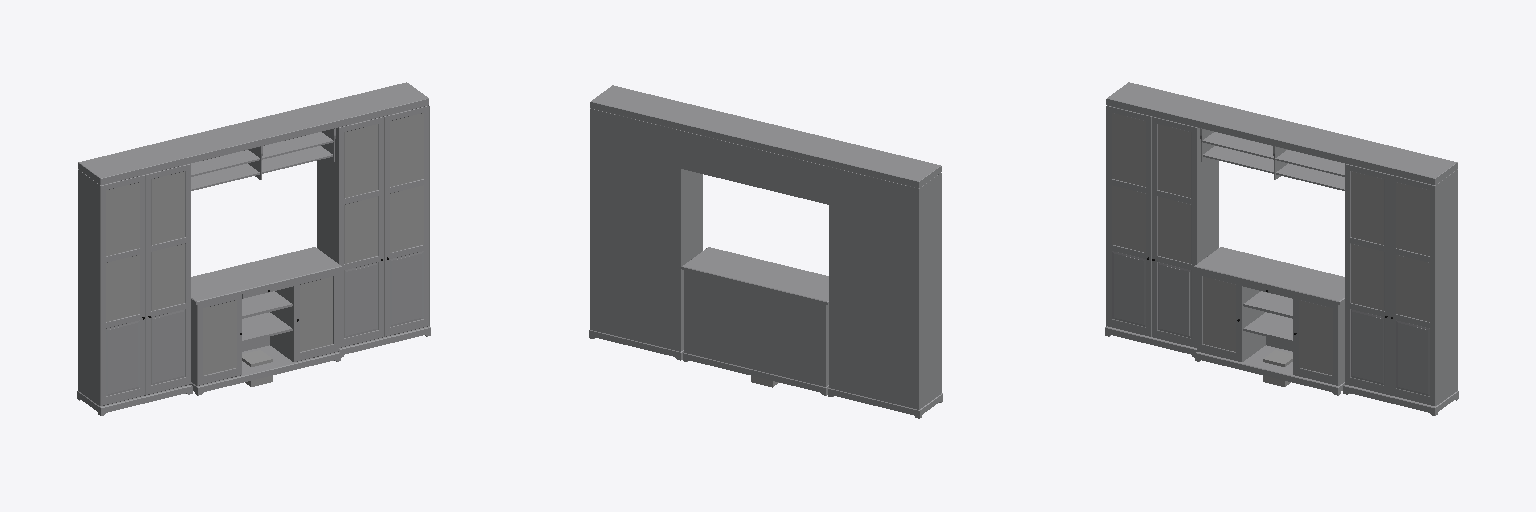
File: dinning_room1.obj
3 renders of one model, left to right at view 1: azimuth 30°, elevation 25°; view 2: azimuth 150°, elevation 25°; view 3: azimuth 330°, elevation 25°, orthographic.
Parts seen in each view (by area): view 1: Mesh_handle.005_Sphere.005_Cr.nk, Cube; view 2: Mesh_handle.005_Sphere.005_Cr.nk; view 3: Mesh_handle.005_Sphere.005_Cr.nk.
Part boxes in pixels (left/top/right/bottom): Mesh_handle.005_Sphere.005_Cr.nk: left=77, top=82, right=430, bottom=415; Cube: left=242, top=350, right=272, bottom=386; Mesh_handle.005_Sphere.005_Cr.nk: left=589, top=85, right=942, bottom=418; Mesh_handle.005_Sphere.005_Cr.nk: left=1105, top=82, right=1458, bottom=415.
Size of the model in its own units: 30.15 by 21.64 by 4.29.